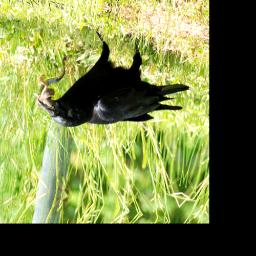Crow: (33, 18, 194, 155)
